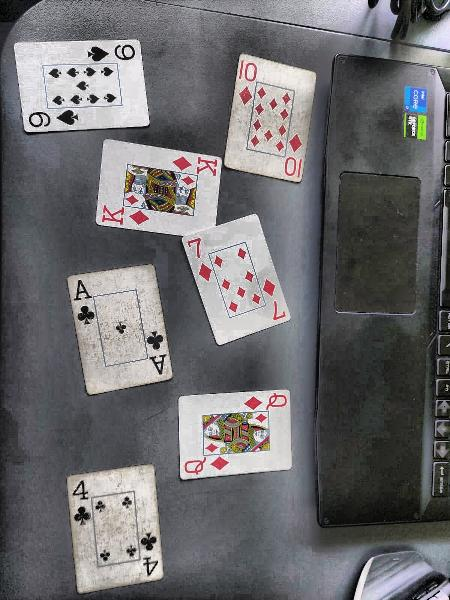10D: (235, 47, 258, 106), (284, 133, 307, 182)
4P: (59, 473, 91, 525), (140, 530, 163, 580)
7D: (262, 272, 292, 323), (185, 236, 214, 280)
9P: (24, 106, 81, 131), (84, 39, 139, 64)
AT: (64, 268, 100, 334), (140, 320, 172, 381)
KD: (98, 201, 157, 237), (170, 143, 223, 174)
QD: (242, 387, 291, 415), (181, 453, 232, 477)
